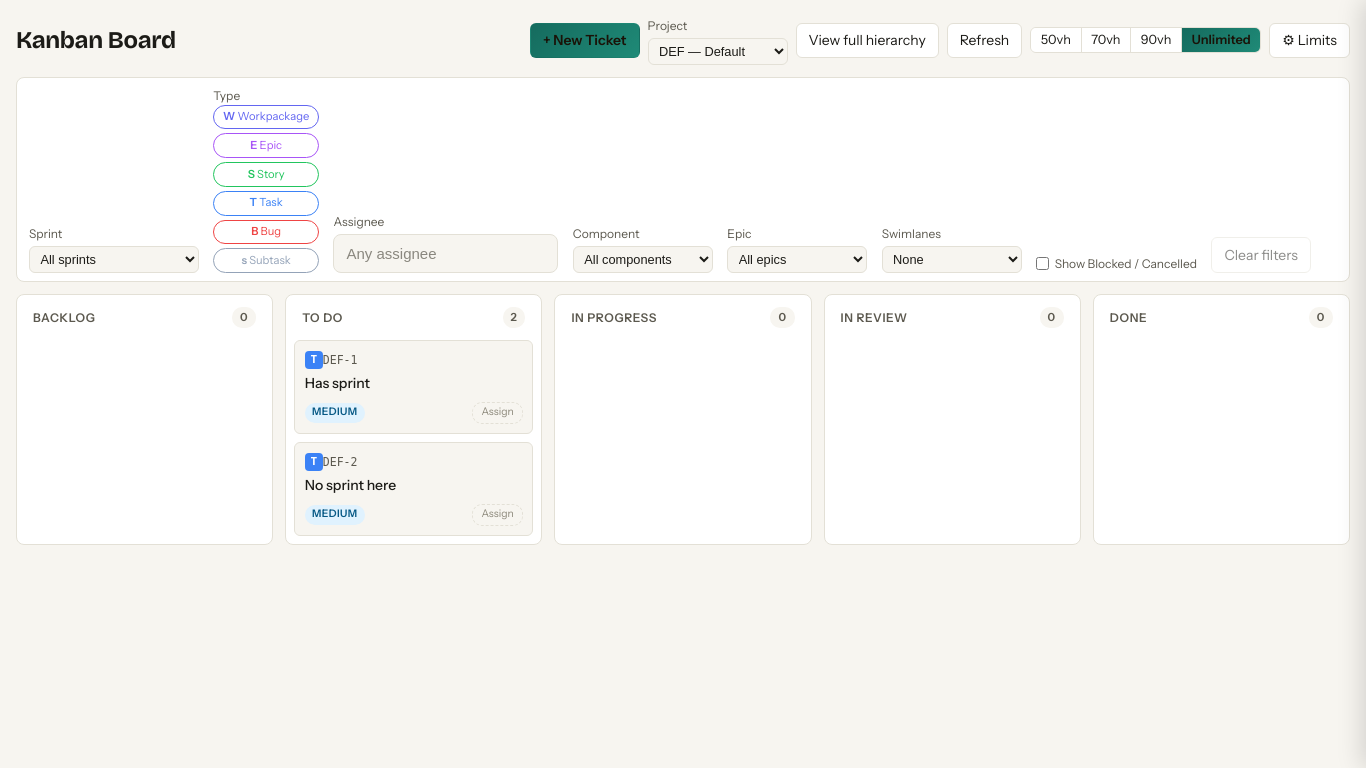
Test: Kanban V5b filter sentinels (client-side) › sprint "No sprint" filters out tickets that carry a sprint_id
The width and height of the screenshot is (1366, 768).
Expected: the text "Has sprint" is shown, top-left (305, 374), bottom-right (370, 392)
Select "No sprint (backlog only)" in the dropdown named "Filter by sprint" at (114, 260), box top-left (29, 246), bottom-right (199, 273)
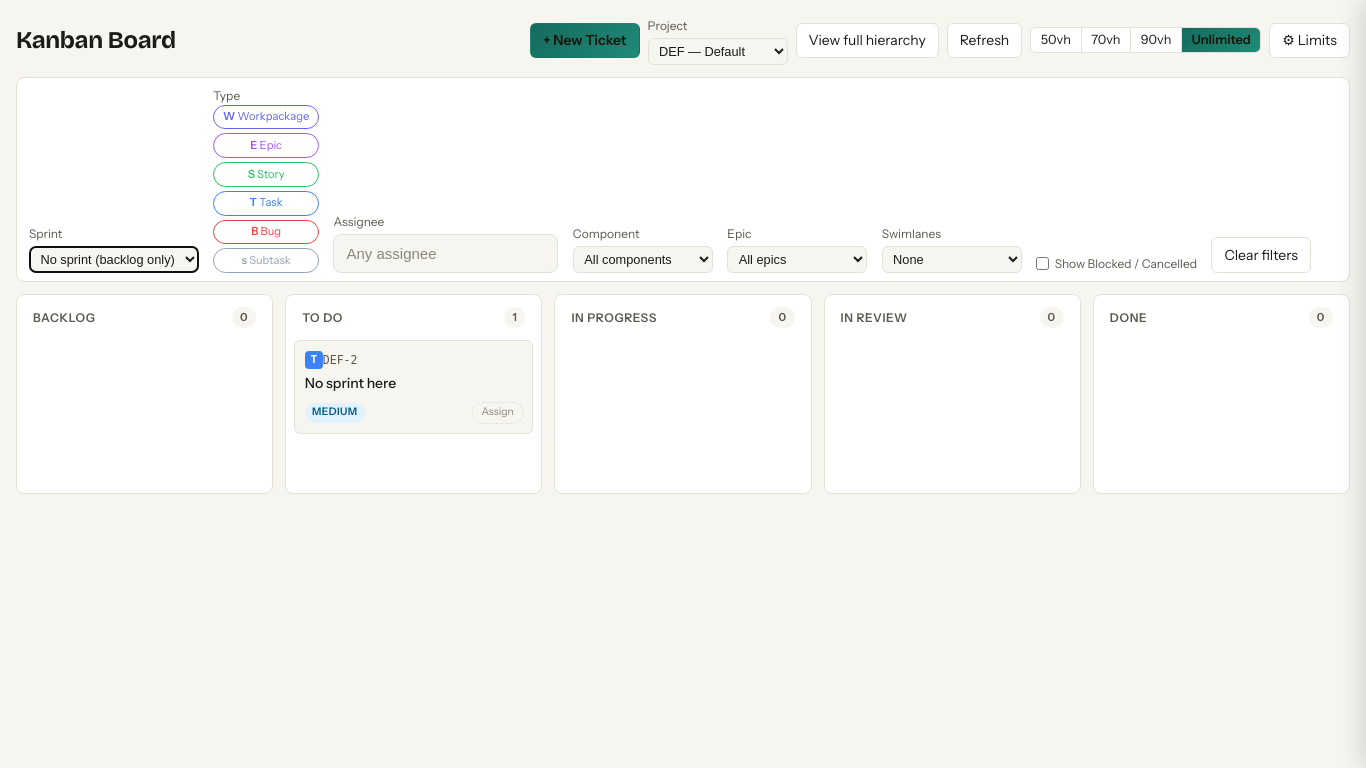
Expected: the text "No sprint here" is shown, top-left (305, 374), bottom-right (396, 392)
Now the button "Has sprint" is gone
